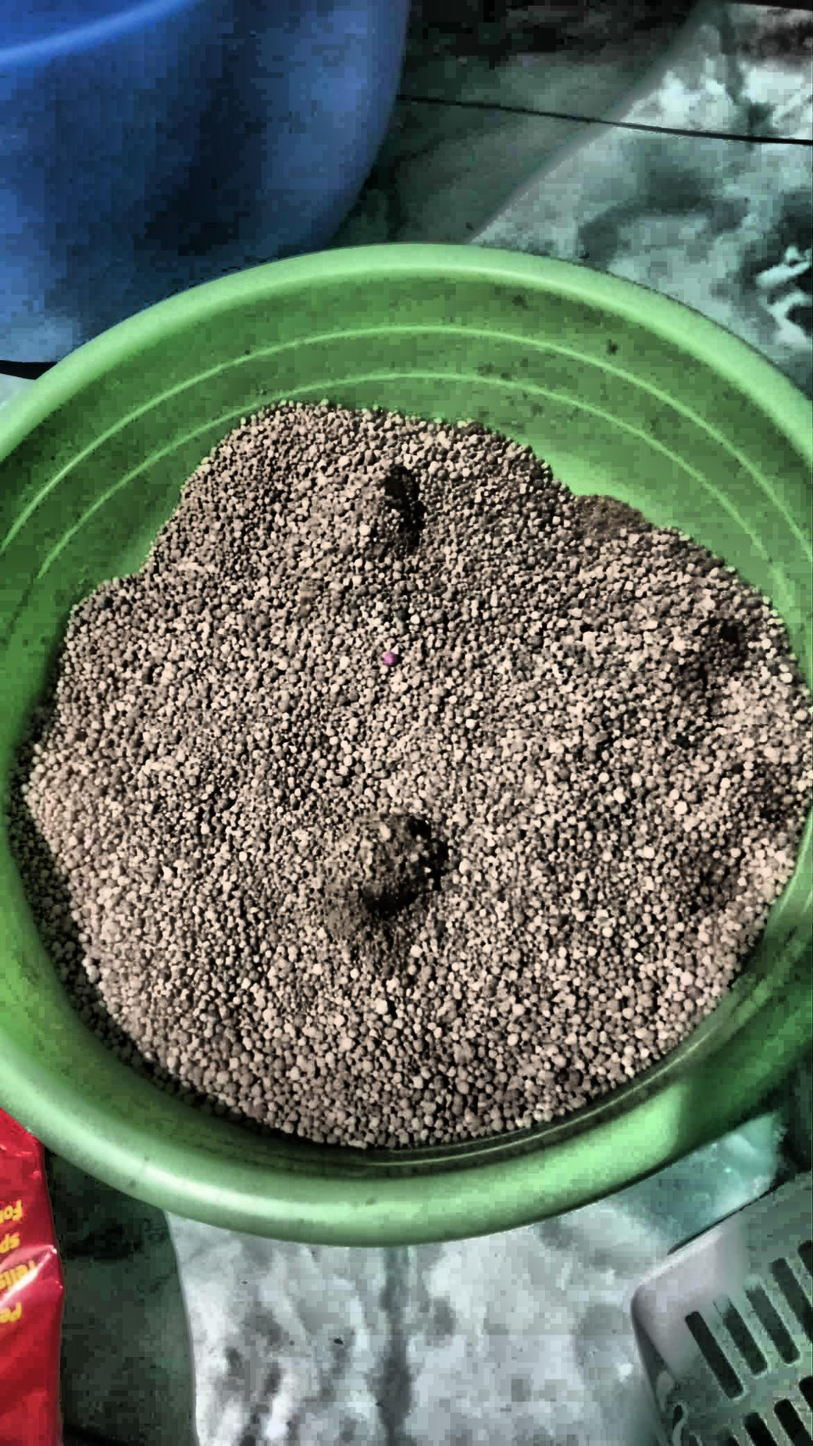poop: (322, 813, 447, 929), (383, 465, 422, 549)
